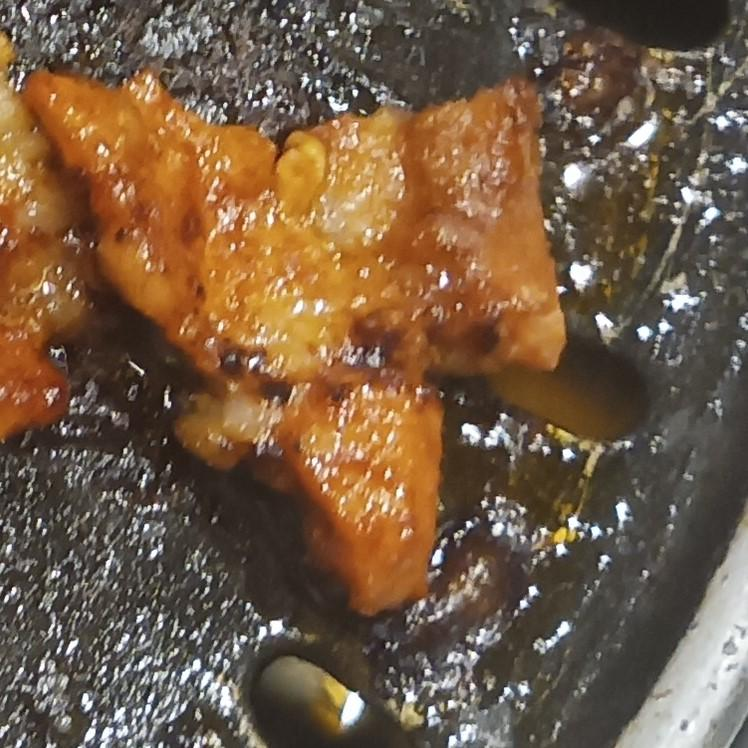Well-Cooked: (20, 71, 569, 620), (0, 58, 122, 447)
